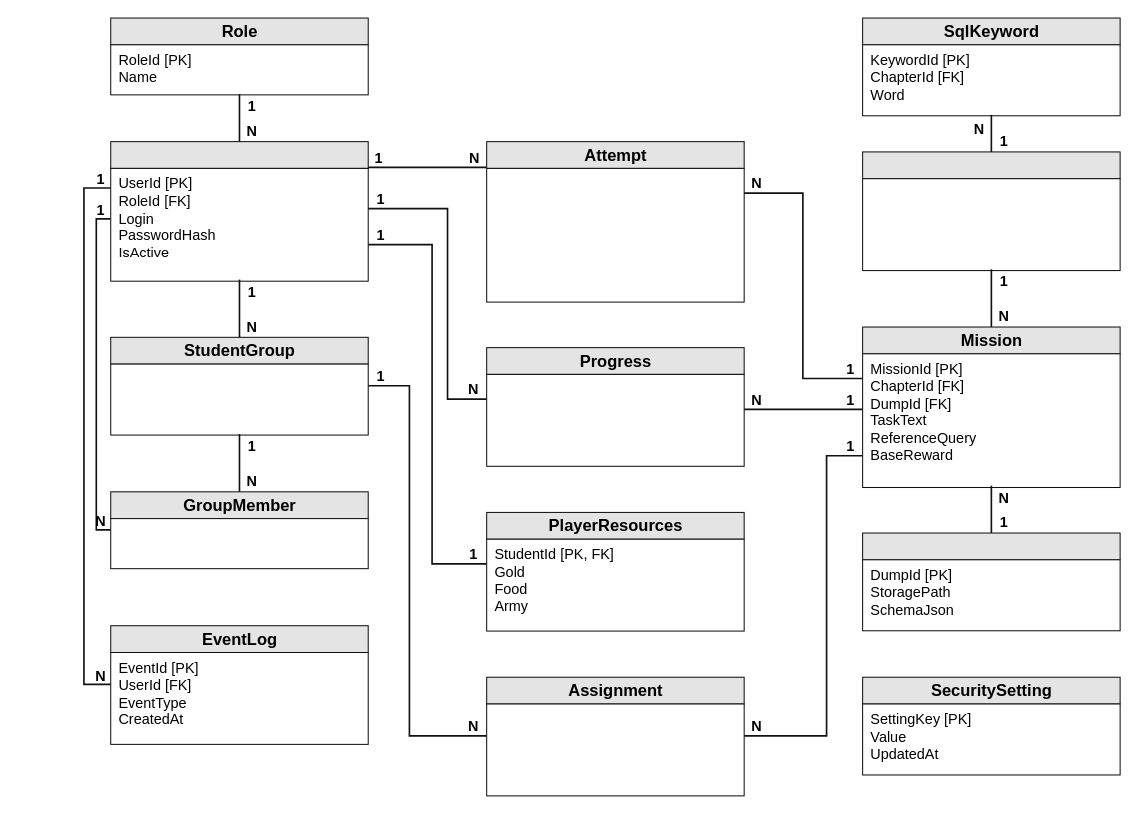
Image size: 1138x815. Some labels were removed from this diagram. The centre of each missing label's shape, as x and y in pixels:
AssignmentId [PK] GroupId [FK] MissionId [FK] Deadline: (615,749)
AttemptId [PK] StudentId [FK] MissionId [FK] SqlText Status ScorePercent: (615,234)
Chapter: (991,165)
ChapterId [PK] Title SqlTopic SortOrder: (991,224)
DumpFile: (991,546)
GroupId [PK, FK] StudentId [PK, FK]: (239,543)
GroupId [PK] TeacherId [FK] Name: (239,399)
StudentId [PK, FK] MissionId [PK, FK] BestScore Stars: (615,419)
User: (239,154)
